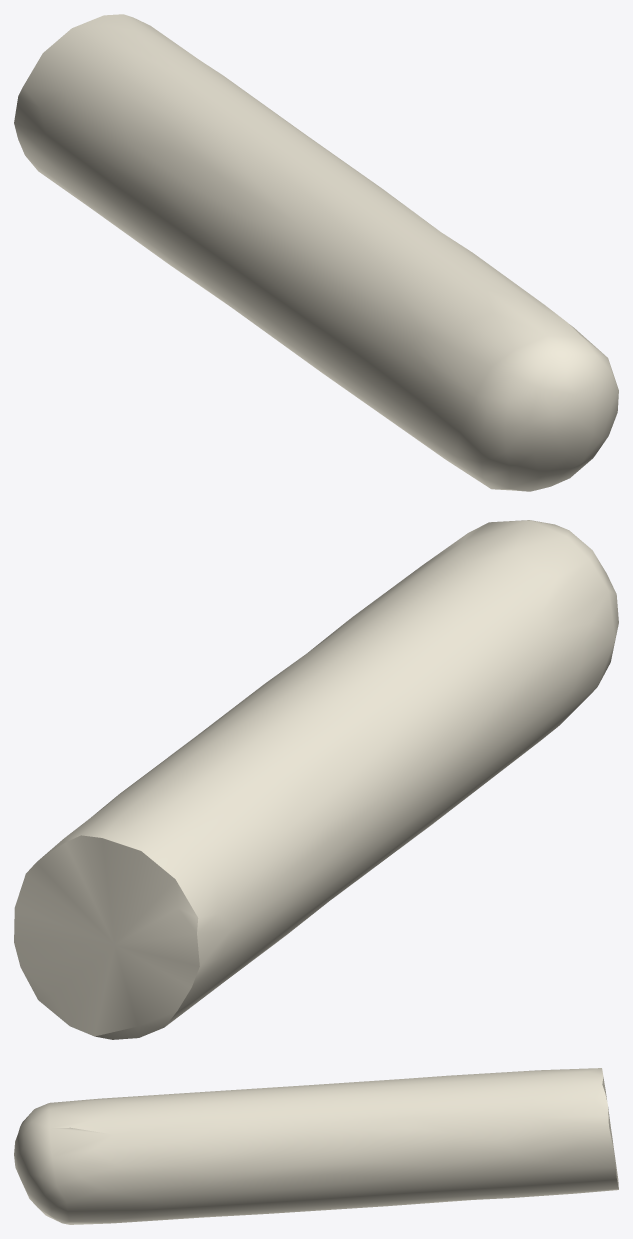
File: fma54781_mm2079m.glb
3 views of the same model, one above another, from view 1: azimuth 30°, elevation 25°; view 2: azimuth 150°, elevation 25°; view 3: azimuth 270°, elevation 25° (orthographic). The views are drawn at different scales.
Parts seen in each view (by area): view 1: FMA54781_MM2079M; view 2: FMA54781_MM2079M; view 3: FMA54781_MM2079M.
Part boxes in pixels (box(x1,y1,x2,y2)): FMA54781_MM2079M: box(14, 14, 618, 491); FMA54781_MM2079M: box(14, 520, 618, 1039); FMA54781_MM2079M: box(14, 1068, 618, 1224).
Size of the model in its own units: 0.00356 by 0.00333 by 0.0138.
